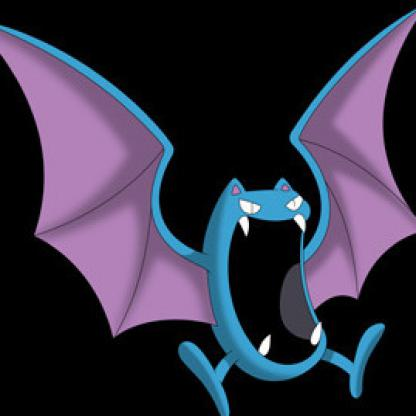Golbat: (1, 13, 416, 416)
